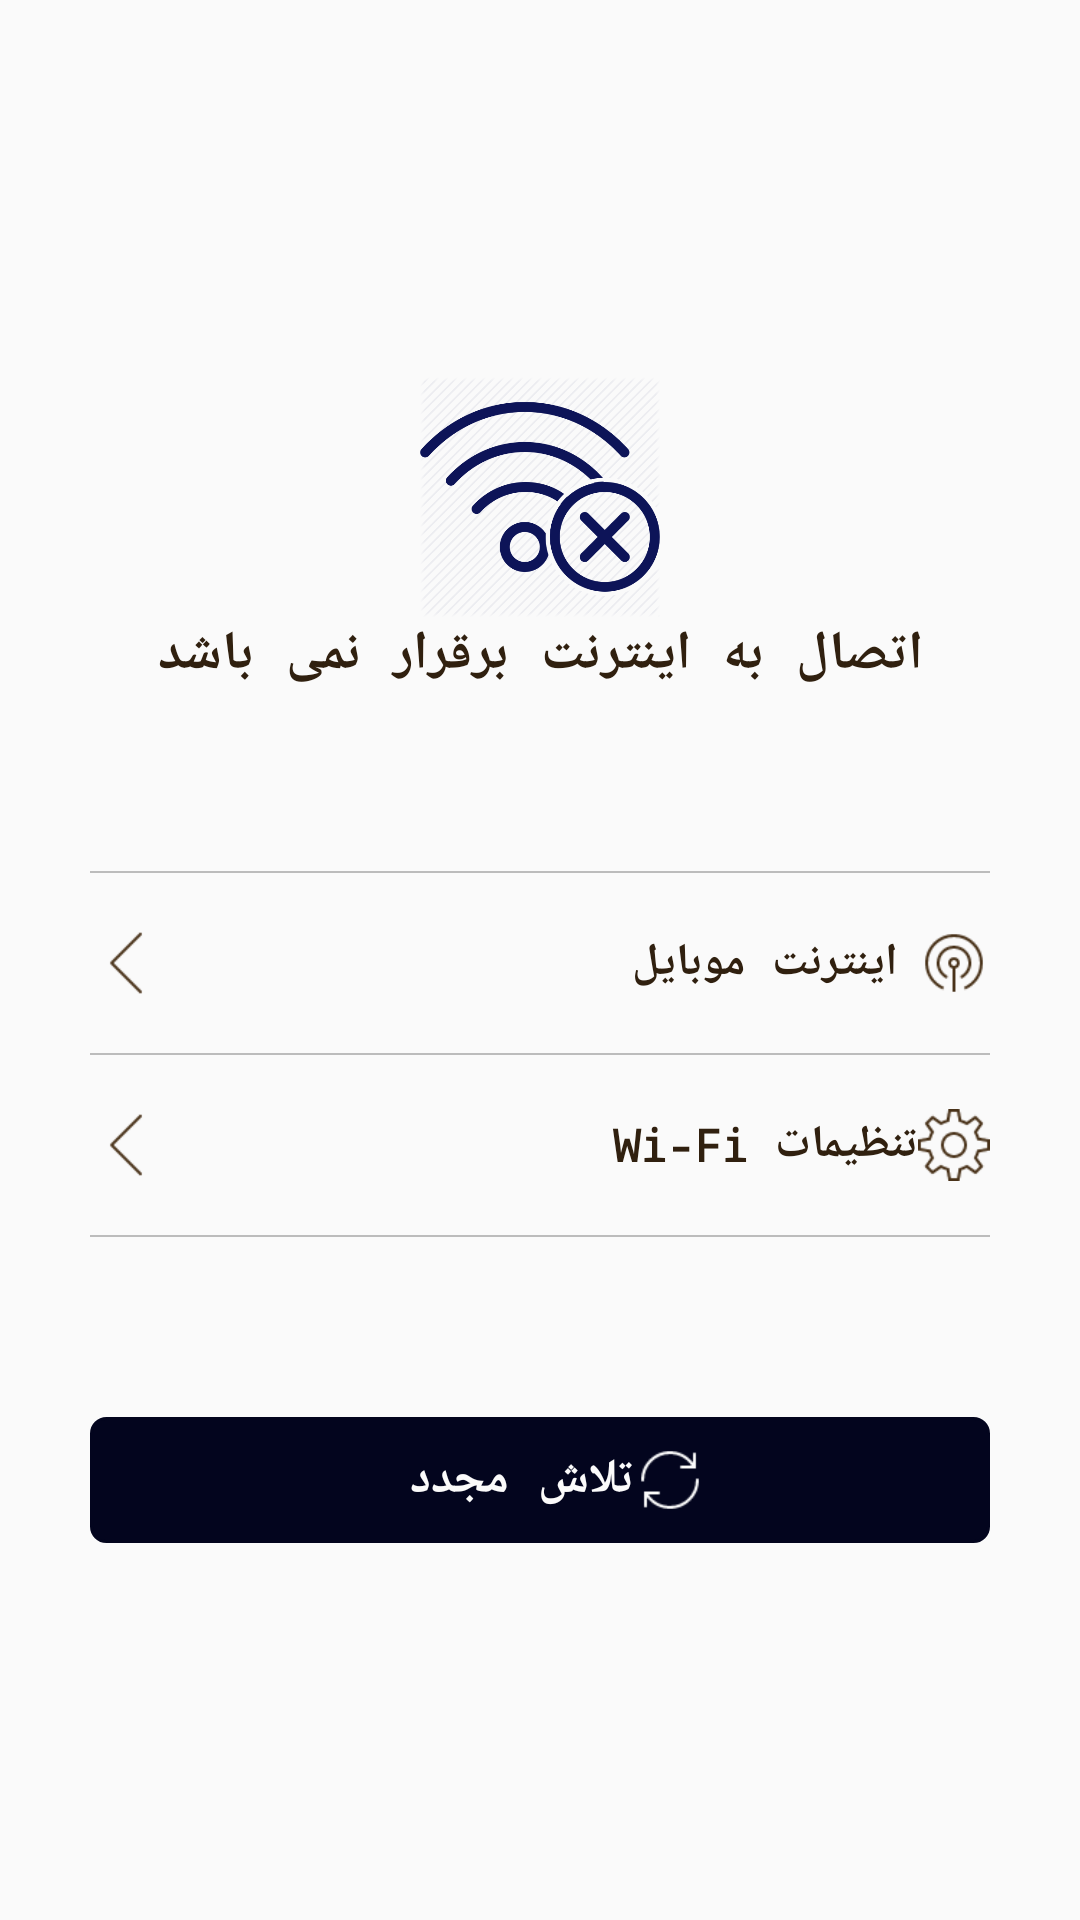

Icon bounding boxes for this 1080px×1920px phone screenshot, format (x1, y1, x2, y2):
mobile data: (925, 934, 983, 992)
retry: (641, 1451, 699, 1509)
wifi error: (420, 402, 660, 592)
wifi settings: (918, 1109, 990, 1181)
